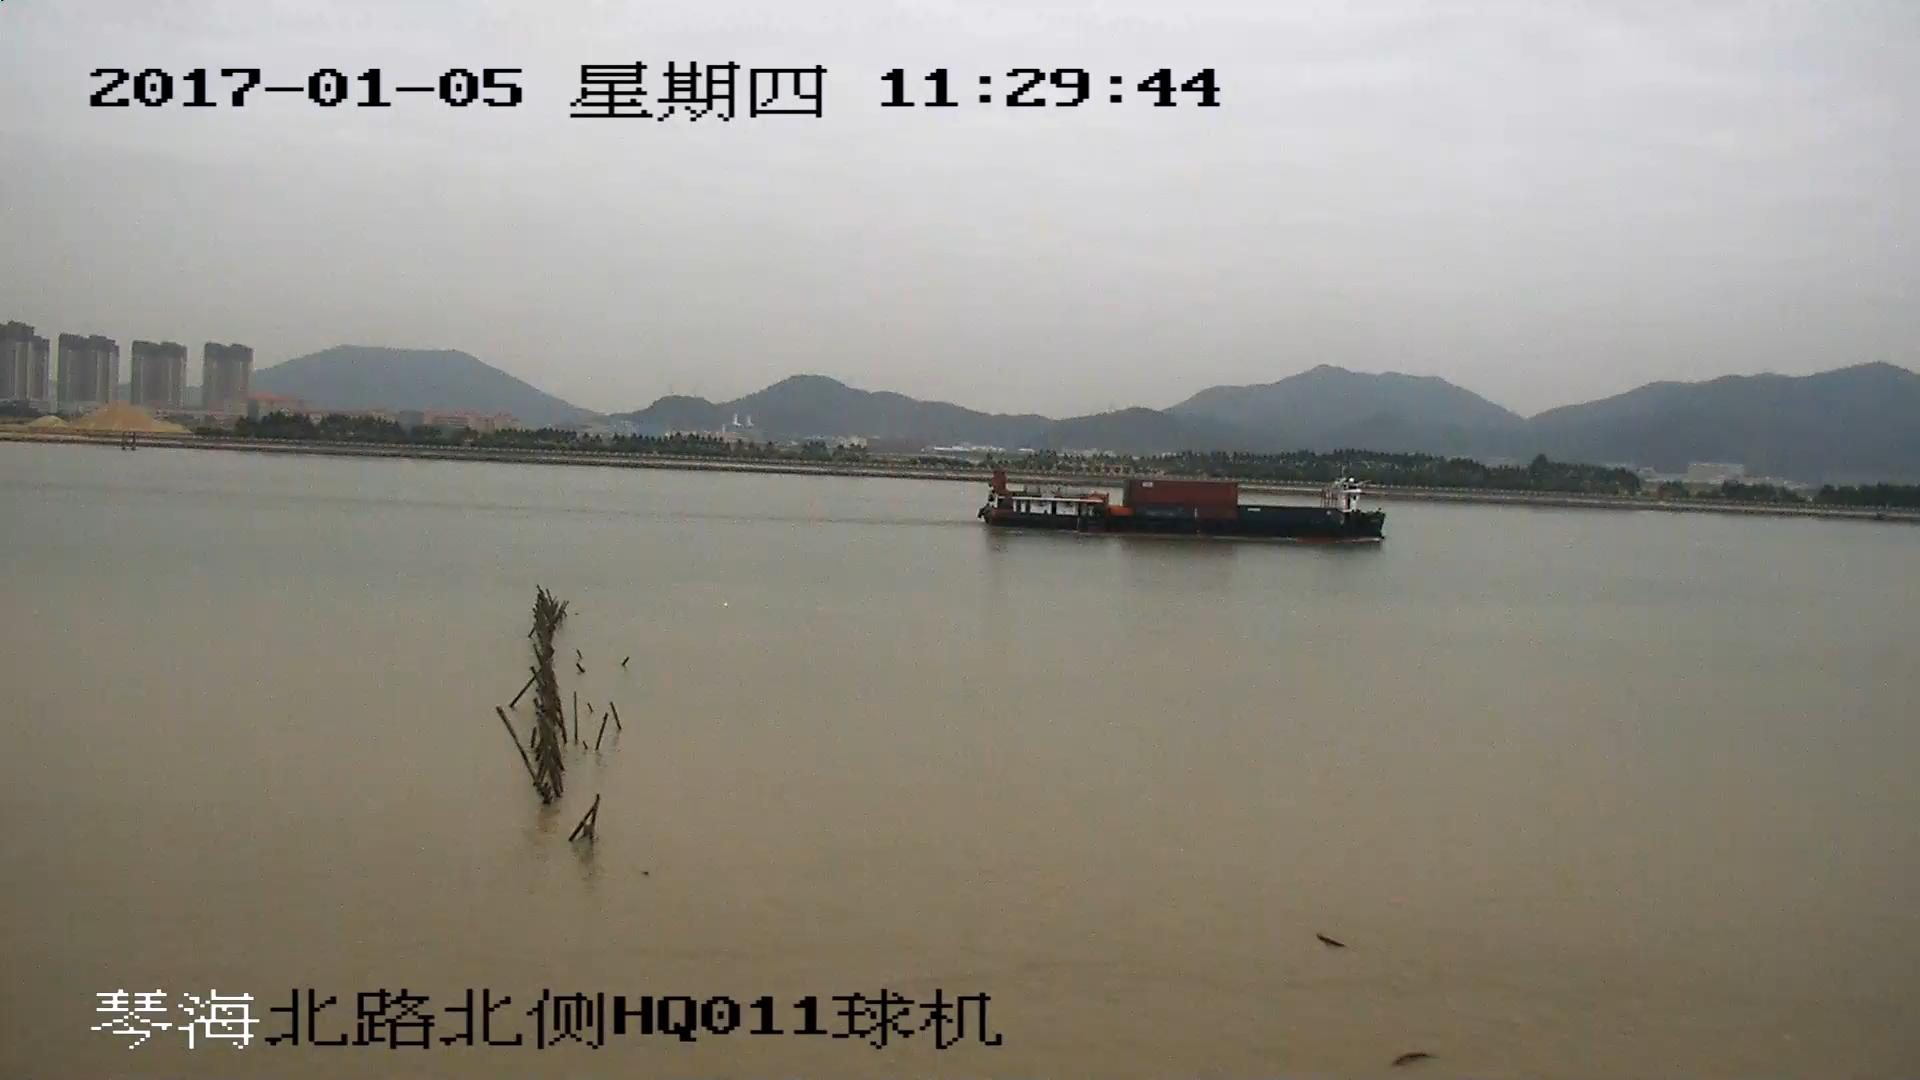container ship: (975, 460, 1385, 539)
